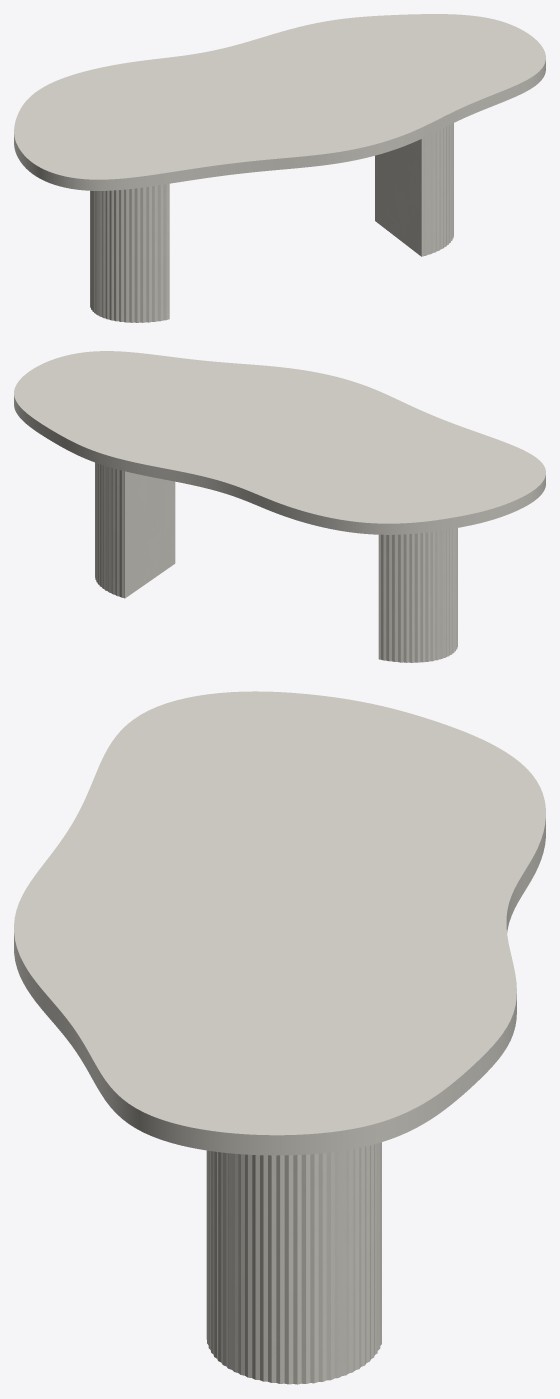
File: pale_toplast_standard_flute.glb
3 views of the same model, one above another, from view 1: azimuth 30°, elevation 25°; view 2: azimuth 150°, elevation 25°; view 3: azimuth 270°, elevation 25° (orthographic). The views are drawn at different scales.
Visible parts, largest first — view 1: standard_toplast, flute; view 2: standard_toplast, flute; view 3: standard_toplast, flute.
Boxes of the visible parts, x1,y1,x2,y2 form: standard_toplast: [14, 14, 545, 190]; flute: [90, 123, 453, 322]; standard_toplast: [14, 351, 545, 534]; flute: [95, 462, 457, 662]; standard_toplast: [14, 691, 545, 1155]; flute: [206, 1142, 381, 1384].
Size of the model in its own units: 7.5 by 2.5 by 3.8.
1 material, 1 textured.
